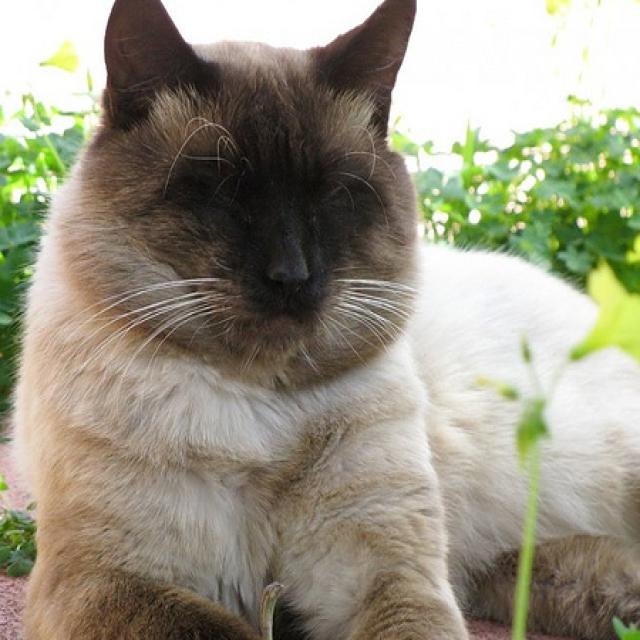Siamese: (5, 0, 640, 640)
